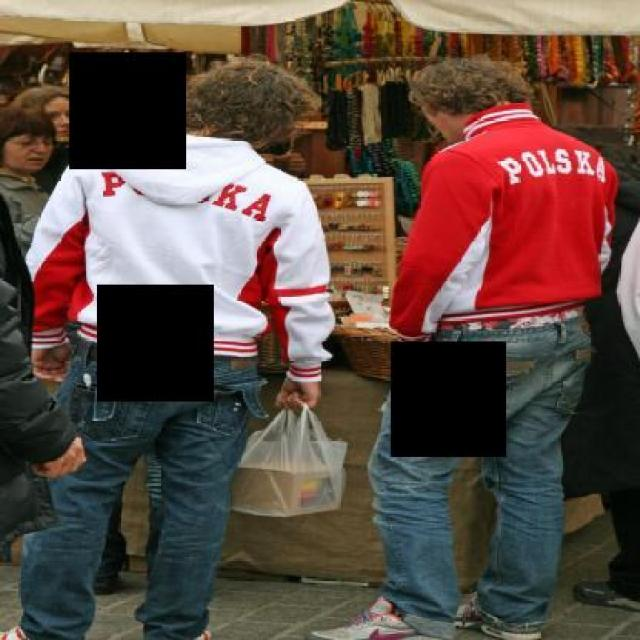plastic bag: (223, 408, 342, 515)
